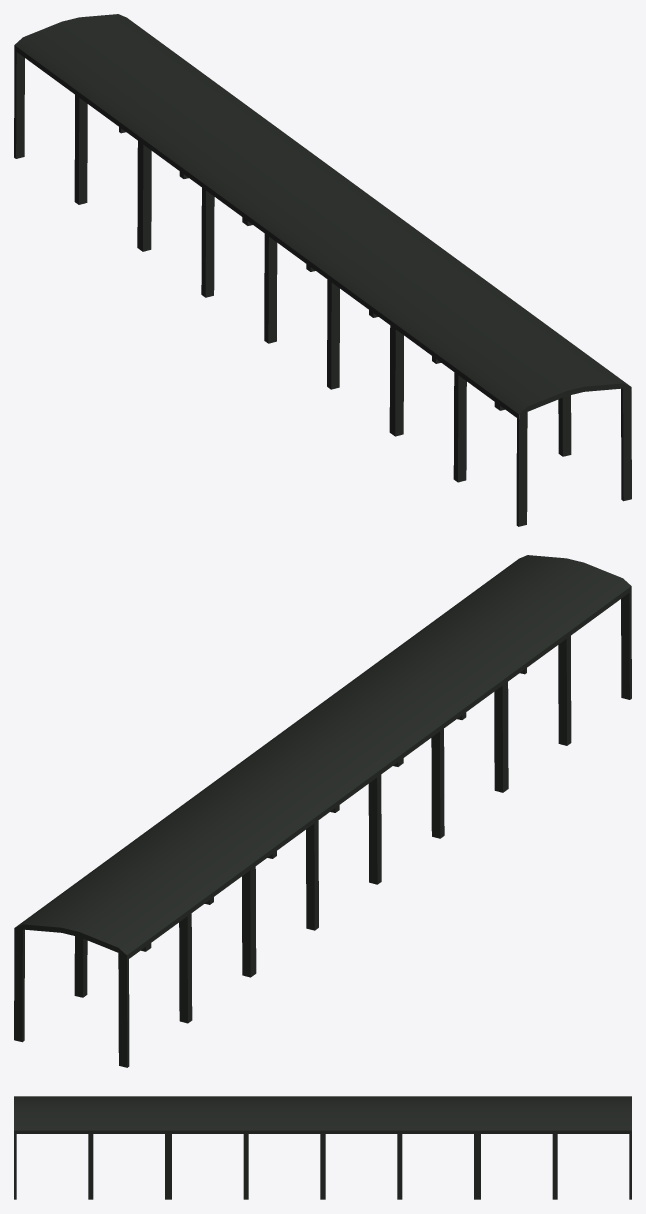
The model's file is roofs.FBX.
3 views of the same model, one above another, from view 1: azimuth 30°, elevation 25°; view 2: azimuth 150°, elevation 25°; view 3: azimuth 270°, elevation 25° (orthographic). The views are drawn at different scales.
Visible parts, largest first — view 1: Box071; view 2: Box071; view 3: Box071.
Part boxes in pixels (x1,y1,x2,y2): Box071: (14,14,631,526); Box071: (14,555,631,1067); Box071: (14,1096,631,1199).
Bounding box in the file's own units: 213 × 223 × 1641.
